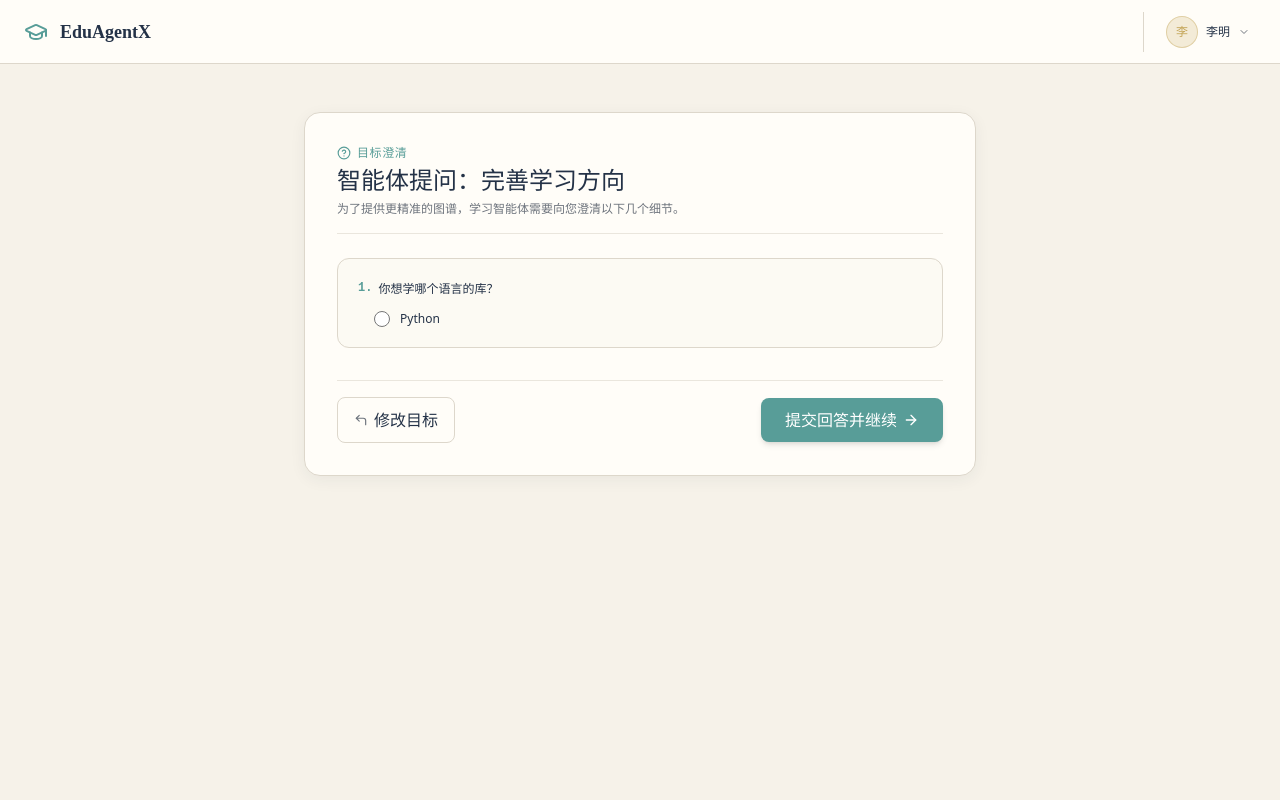
Scenario: Onboarding & Goals Workflows › should show validation warning when submitting incomplete clarification answers
expect the text "你想学哪个语言的库？" is shown: met, box [378, 279, 498, 298]
// Submit without selecting radio
Click the button "提交回答并继续": (852, 420) [761, 398, 943, 442]
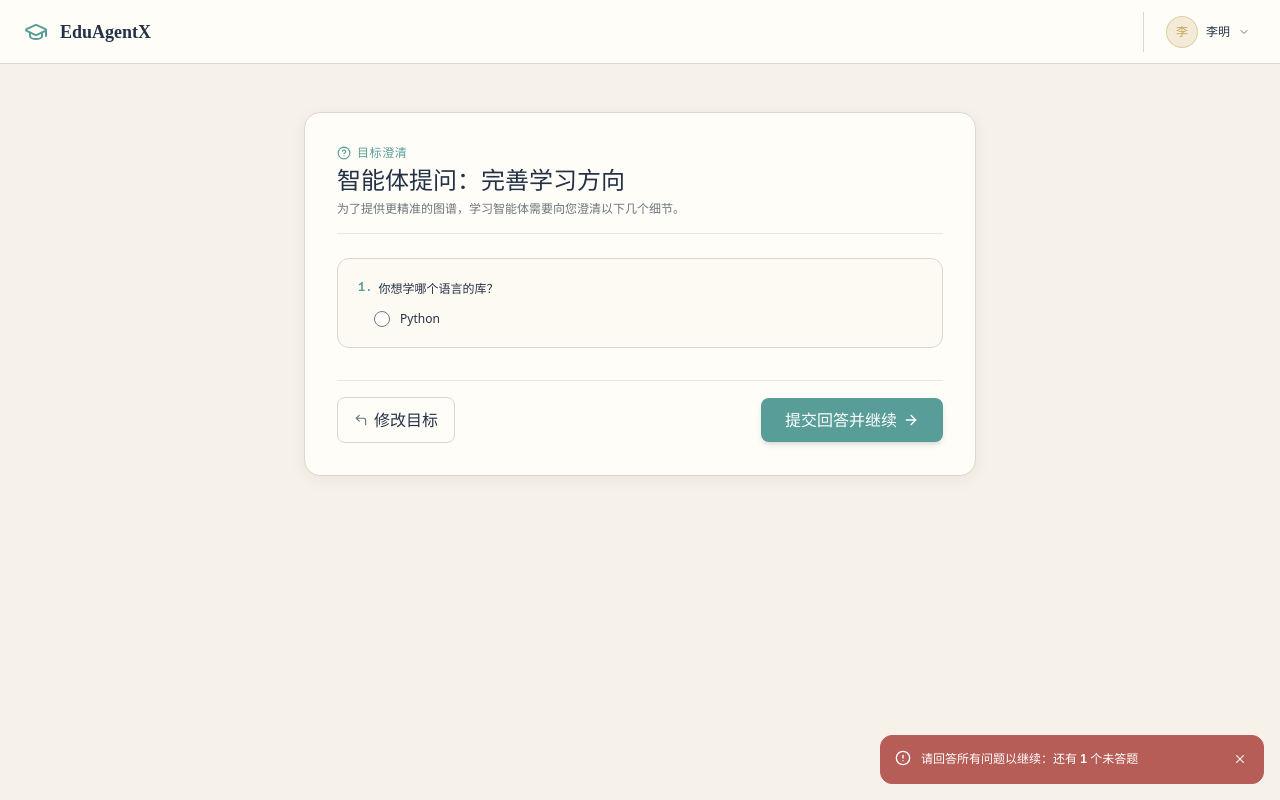
expect the text "请回答所有问题以继续：还有 1 个未答题" is shown: met, box [921, 752, 1138, 766]
